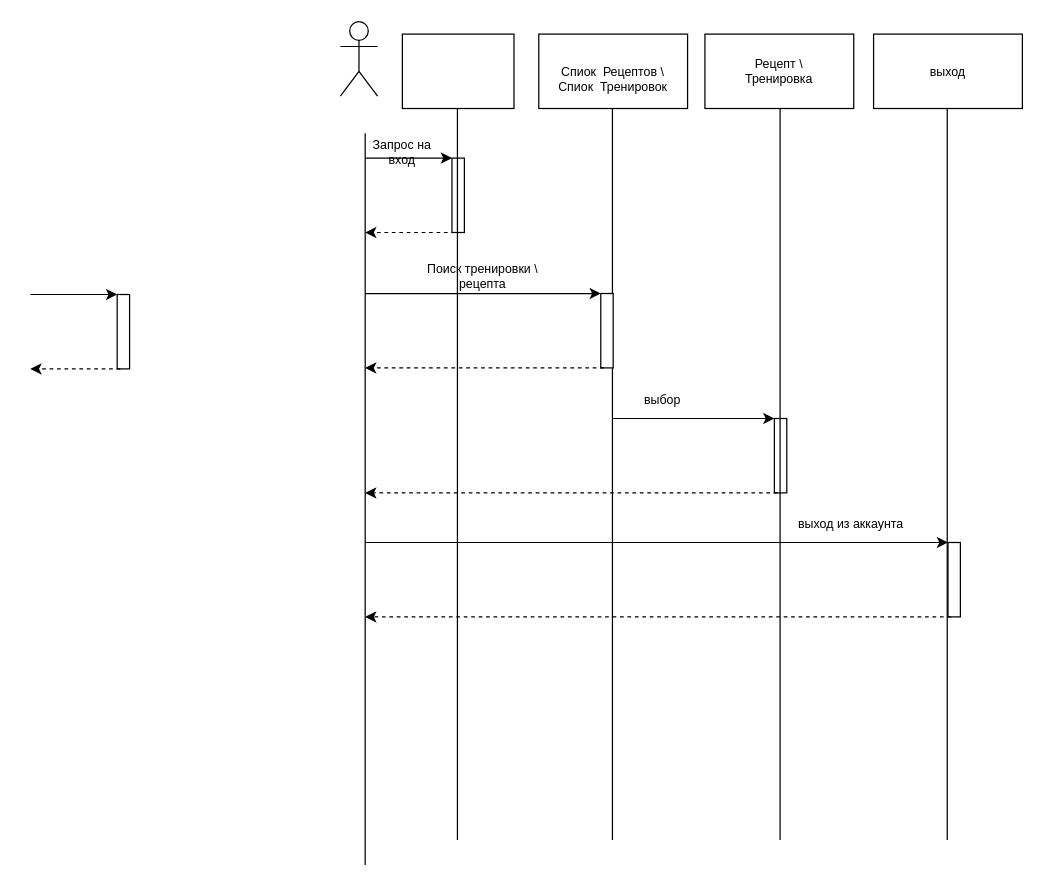
Some shapes in this 1044 by 888 pixel diagram are drawn without their labels. Each missing label, with the centre of its shape:
Actor: (x=358, y=58)
Вход: (x=457, y=70)
